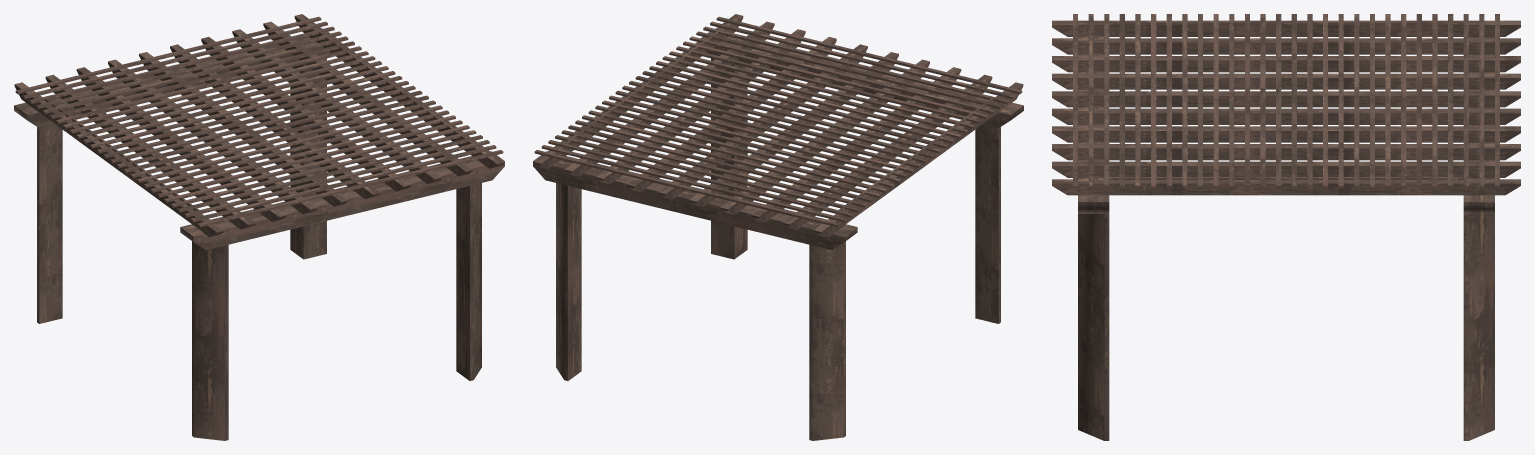
The picture shows the model from 3 angles, left to right: view 1: azimuth 30°, elevation 25°; view 2: azimuth 150°, elevation 25°; view 3: azimuth 270°, elevation 25°; orthographic projection. The views are drawn at different scales.
Parts seen in each view (by area): view 1: body0_model0_lod0_mesh0; view 2: body0_model0_lod0_mesh0; view 3: body0_model0_lod0_mesh0.
Boxes of the visible parts, <box> form: body0_model0_lod0_mesh0: <box>14,14,504,440</box>; body0_model0_lod0_mesh0: <box>533,14,1023,440</box>; body0_model0_lod0_mesh0: <box>1052,14,1520,440</box>.
Bounding box in the file's own units: 320 × 220 × 360.
1 material, 1 textured.
